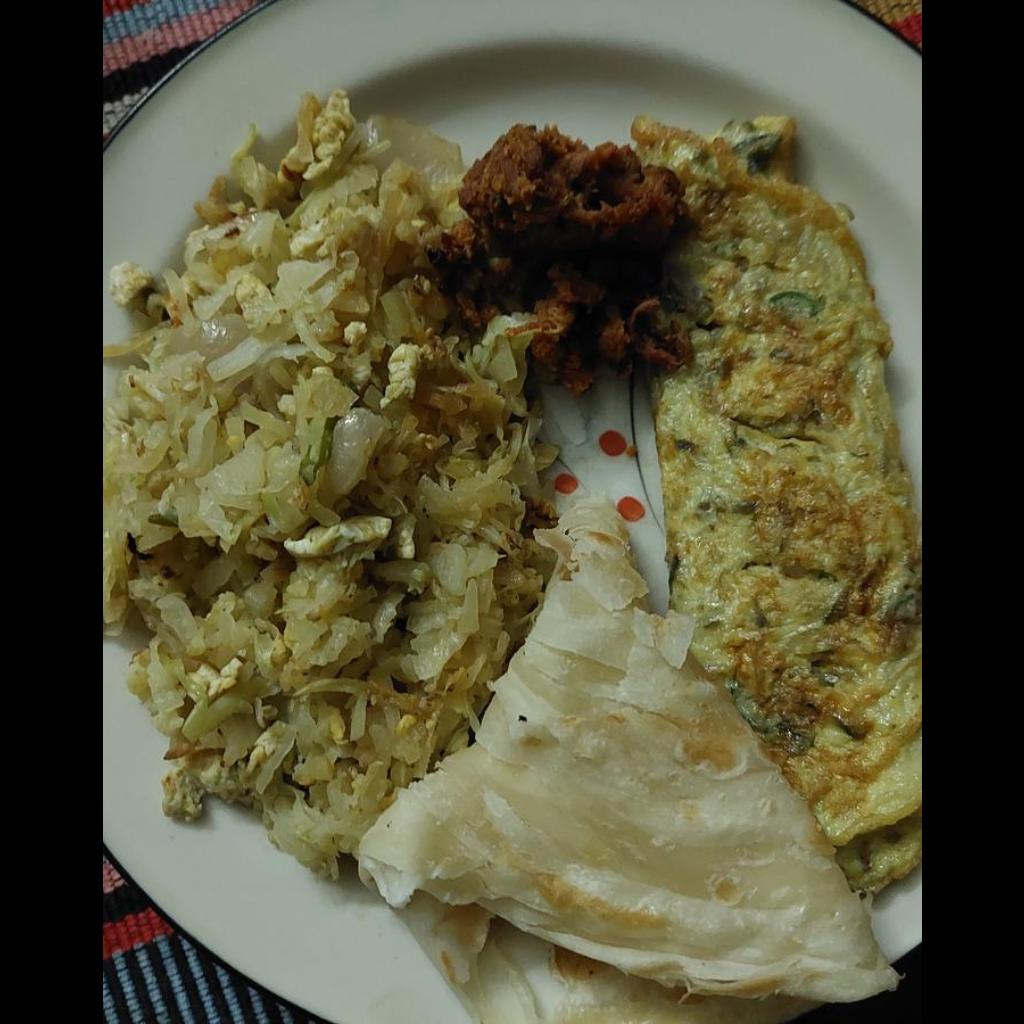egg-poached: (639, 114, 920, 888)
ruti: (357, 500, 907, 1018)
vaji: (104, 88, 563, 869)
vorta: (434, 128, 691, 391)
